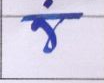anusvara: (44, 0, 53, 7)
